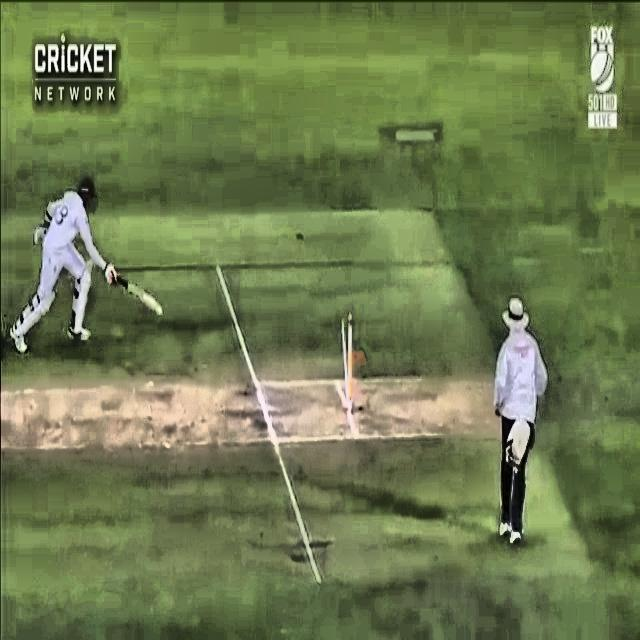Bat: (97, 261, 166, 320)
Dis_Wicket: (329, 305, 376, 426)
Pitch_Line: (216, 265, 320, 584)
